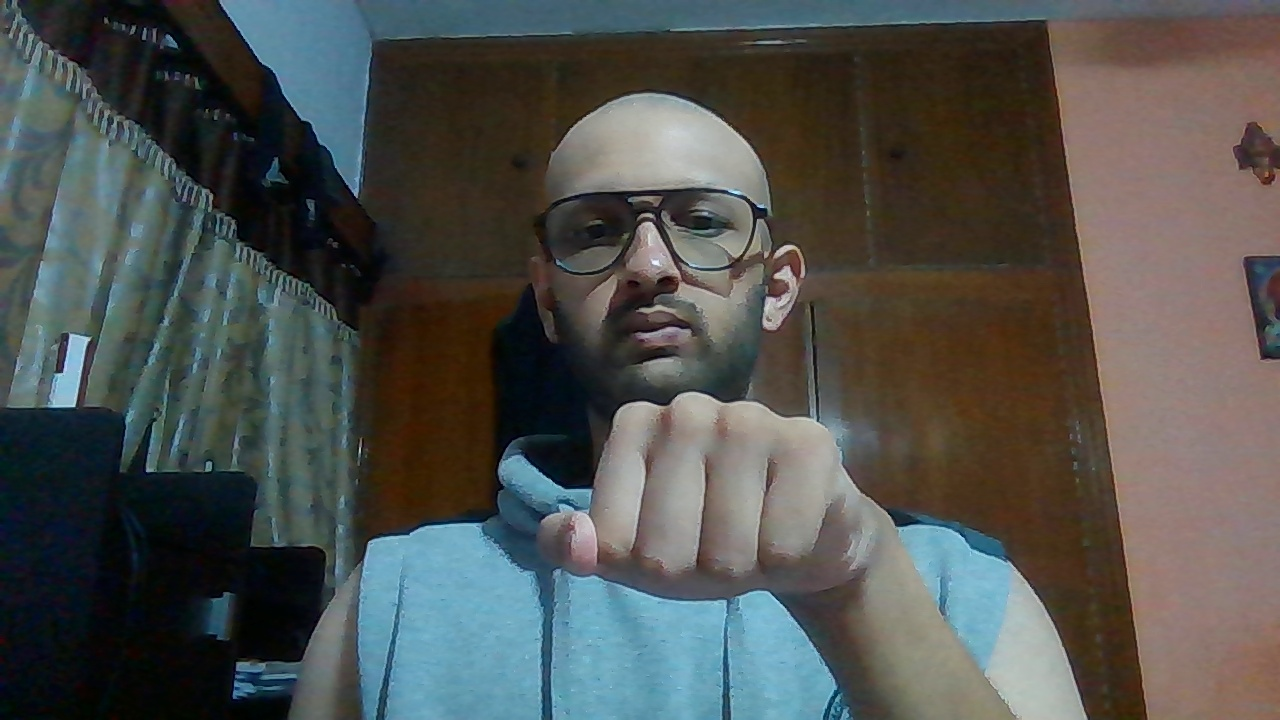Yes: (529, 390, 901, 602)
